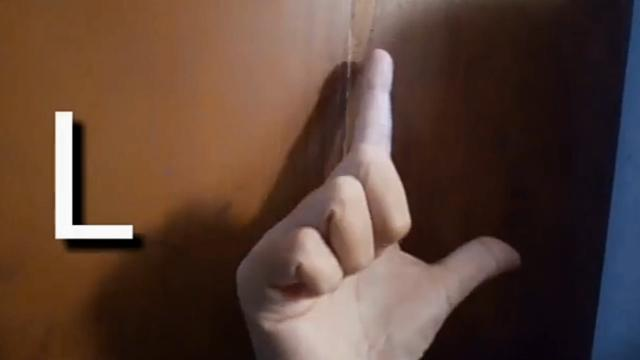L: (230, 44, 522, 360)
